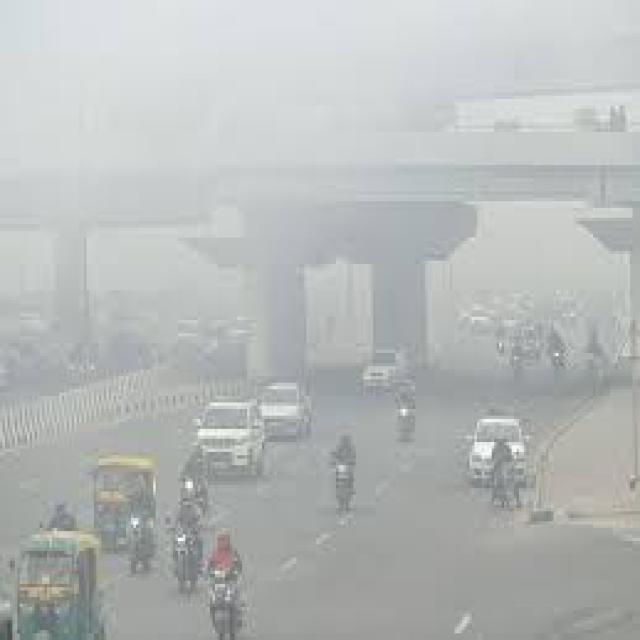no-low traffic: (5, 335, 519, 640)
